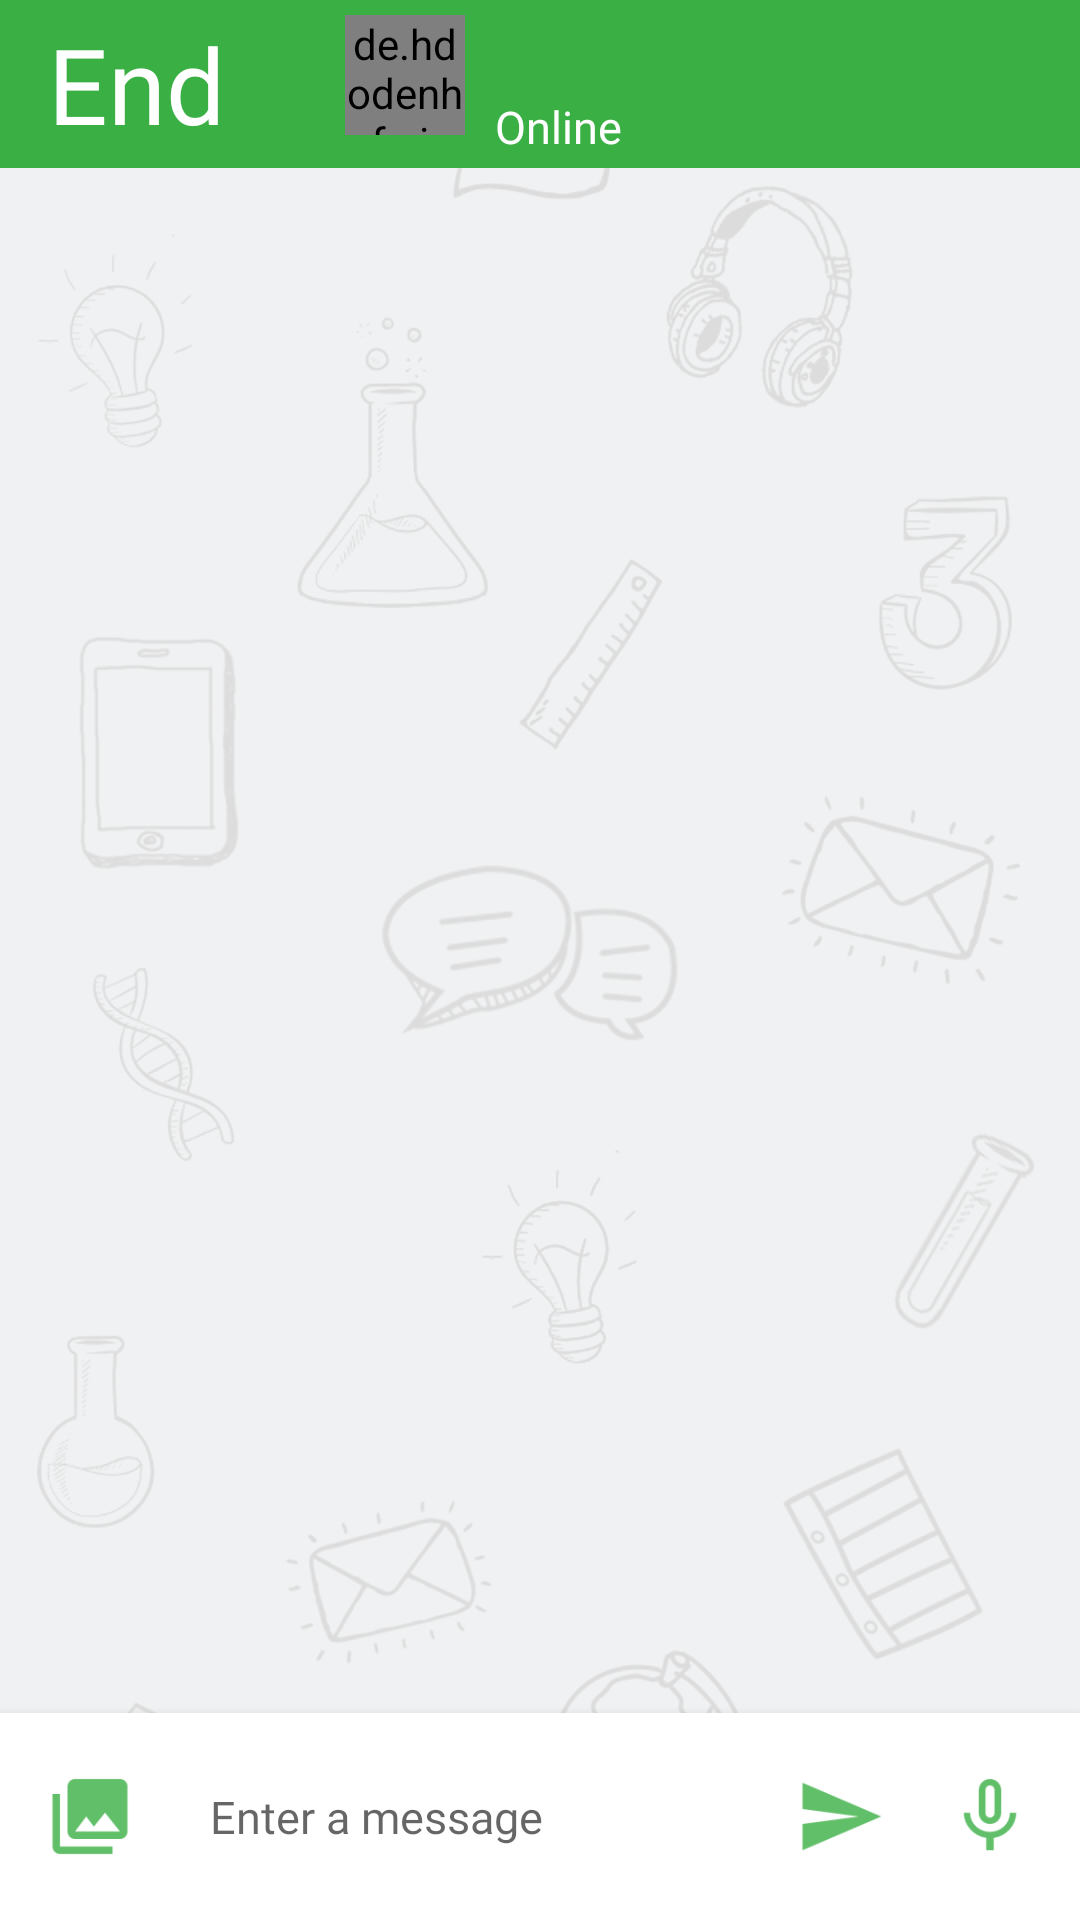

Icon bounding boxes for this 1080x1920 phone screenshot, format (x1, y1, x2, y2):
mic: (963, 1779, 1017, 1851)
photoselect: (52, 1779, 128, 1854)
sendmessage: (802, 1783, 881, 1850)
